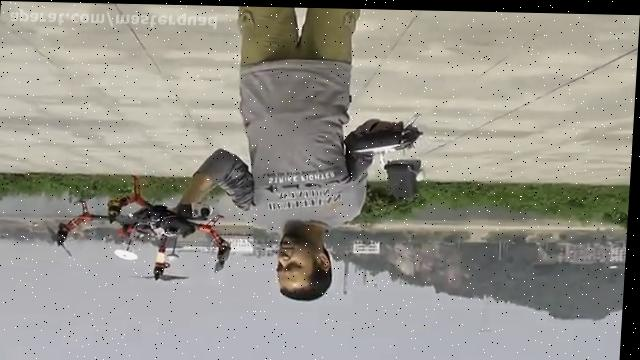drone: (42, 170, 239, 285)
